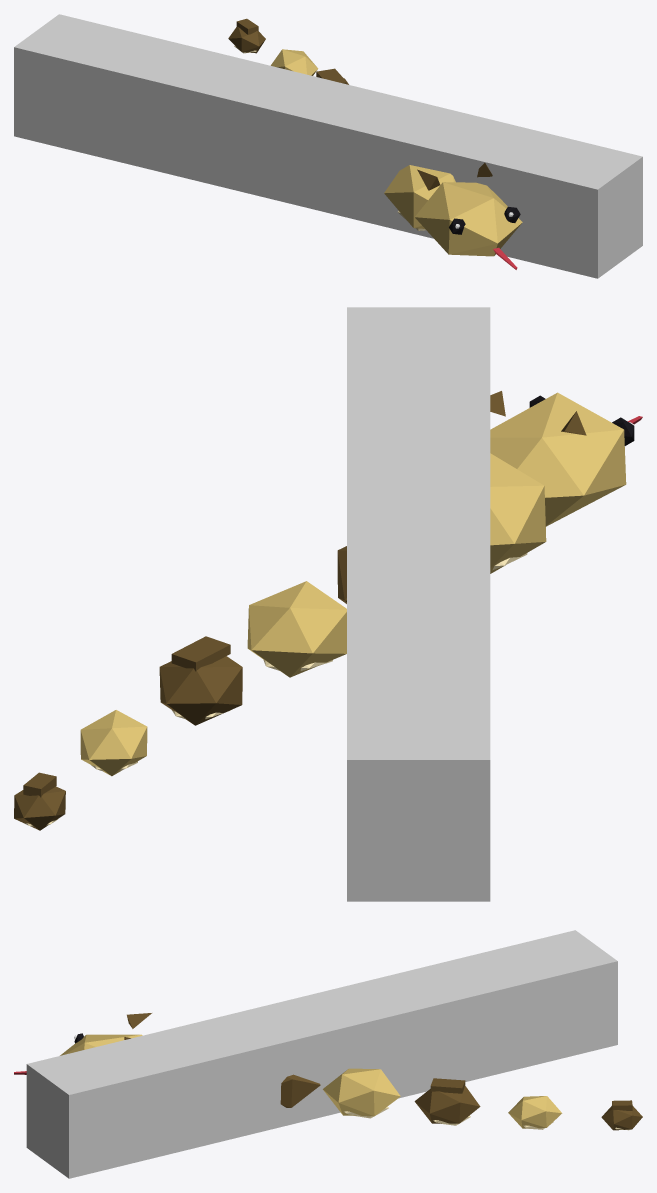
File: desert_sand_snake.fbx
3 views of the same model, one above another, from view 1: azimuth 30°, elevation 25°; view 2: azimuth 150°, elevation 25°; view 3: azimuth 270°, elevation 25° (orthographic). The views are drawn at different scales.
Visible parts, largest first — view 1: Root__-0.01_0.44_0.62__0.80_0.88_6.00, Head__Seg1__0.00_0.40_-1.08, Seg1__Root__0.00_0.40_-1.12, Seg6__Seg5__0.00_0.16_3.03, Seg5__Seg4__0.00_0.21_2.20; view 2: Root__-0.01_0.44_0.62__0.80_0.88_6.00, Head__Seg1__0.00_0.40_-1.08, Seg3__Seg2__0.00_0.30_0.54, Seg4__Seg3__0.00_0.25_1.37, Seg1__Root__0.00_0.40_-1.12, Seg5__Seg4__0.00_0.21_2.20, Seg6__Seg5__0.00_0.16_3.03; view 3: Root__-0.01_0.44_0.62__0.80_0.88_6.00, Seg3__Seg2__0.00_0.30_0.54, Seg4__Seg3__0.00_0.25_1.37, Seg5__Seg4__0.00_0.21_2.20, Head__Seg1__0.00_0.40_-1.08, Seg6__Seg5__0.00_0.16_3.03, Seg2__Seg1__0.00_0.35_-0.29.
Boxes of the visible parts, x1,y1,x2,y2 form: Root__-0.01_0.44_0.62__0.80_0.88_6.00: (14, 14, 642, 278); Head__Seg1__0.00_0.40_-1.08: (415, 163, 522, 269); Seg1__Root__0.00_0.40_-1.12: (384, 165, 455, 230); Seg6__Seg5__0.00_0.16_3.03: (228, 18, 265, 53); Seg5__Seg4__0.00_0.21_2.20: (271, 49, 318, 75); Root__-0.01_0.44_0.62__0.80_0.88_6.00: (347, 307, 490, 901); Head__Seg1__0.00_0.40_-1.08: (490, 391, 642, 526); Seg3__Seg2__0.00_0.30_0.54: (247, 581, 346, 677); Seg4__Seg3__0.00_0.25_1.37: (159, 636, 242, 725); Seg1__Root__0.00_0.40_-1.12: (490, 453, 546, 573); Seg5__Seg4__0.00_0.21_2.20: (80, 710, 147, 776); Seg6__Seg5__0.00_0.16_3.03: (14, 772, 65, 830); Root__-0.01_0.44_0.62__0.80_0.88_6.00: (26, 930, 617, 1178); Seg3__Seg2__0.00_0.30_0.54: (323, 1068, 400, 1118); Seg4__Seg3__0.00_0.25_1.37: (414, 1078, 480, 1125); Seg5__Seg4__0.00_0.21_2.20: (508, 1096, 562, 1129); Head__Seg1__0.00_0.40_-1.08: (14, 1013, 151, 1074); Seg6__Seg5__0.00_0.16_3.03: (601, 1100, 642, 1130); Seg2__Seg1__0.00_0.35_-0.29: (280, 1074, 320, 1107).
Size of the model in its own units: 103 by 24.51 by 167.
1 material, 1 textured.
